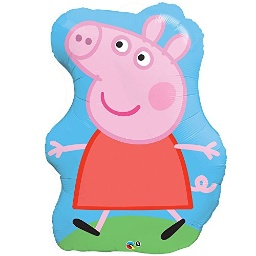Peppa: (48, 14, 220, 242)
